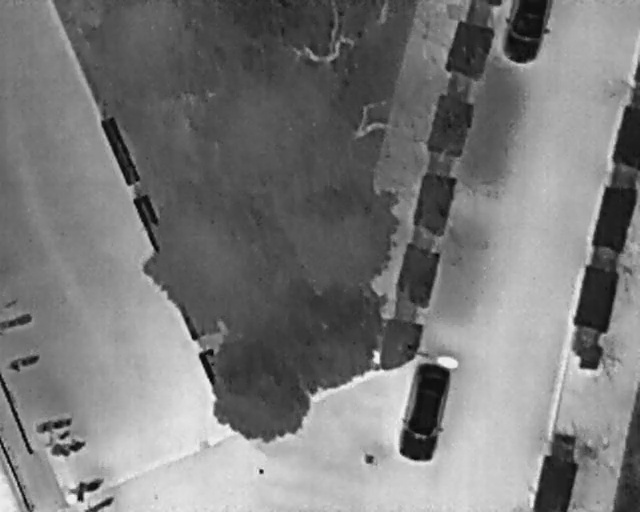Bicycle: (62, 473, 107, 504), (47, 434, 89, 463), (32, 411, 74, 437), (4, 351, 42, 375), (42, 426, 74, 448), (0, 313, 33, 328), (84, 494, 113, 510)
Car: (391, 356, 455, 467), (501, 0, 554, 65)
